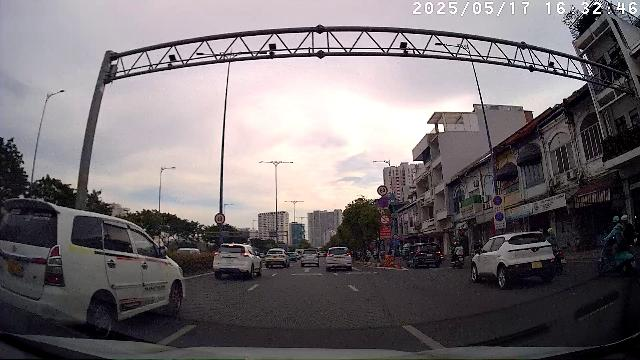127-toc-do-toi-da-60: (214, 213, 226, 225), (377, 185, 387, 195)
